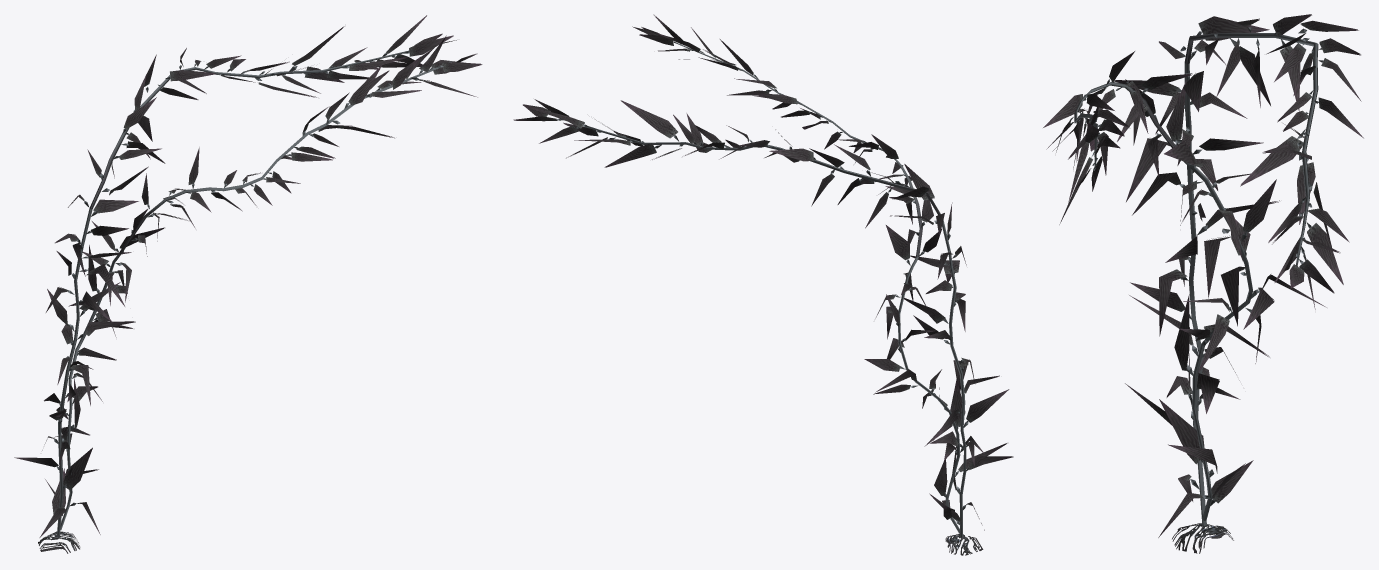
Rendered from giant-kelp-c-canopy.fbx.
3 renders of one model, left to right at view 1: azimuth 30°, elevation 25°; view 2: azimuth 150°, elevation 25°; view 3: azimuth 270°, elevation 25°, orthographic. The views are drawn at different scales.
Visible parts, largest first — view 1: kelp_giant_c_canopy_leaves_lod2, kelp_giant_c_canopy_stem_lod2; view 2: kelp_giant_c_canopy_leaves_lod2, kelp_giant_c_canopy_stem_lod2; view 3: kelp_giant_c_canopy_leaves_lod2, kelp_giant_c_canopy_stem_lod2.
Boxes of the visible parts, left/top/right/bottom form: kelp_giant_c_canopy_leaves_lod2: left=14, top=15, right=482, bottom=553; kelp_giant_c_canopy_stem_lod2: left=54, top=50, right=451, bottom=535; kelp_giant_c_canopy_leaves_lod2: left=513, top=14, right=1013, bottom=555; kelp_giant_c_canopy_stem_lod2: left=556, top=34, right=968, bottom=537; kelp_giant_c_canopy_leaves_lod2: left=1043, top=14, right=1363, bottom=553; kelp_giant_c_canopy_stem_lod2: left=1070, top=27, right=1323, bottom=525.
Size of the model in its own units: 606 by 540 by 236.
Materials: 1 (1 with a texture image).
